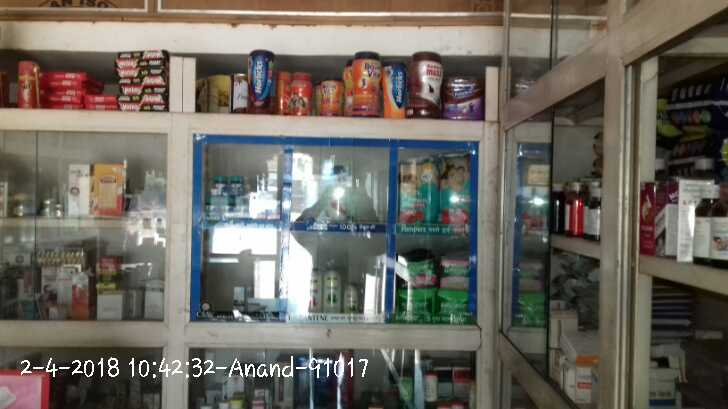vicks: (227, 175, 244, 195), (214, 175, 227, 195)
